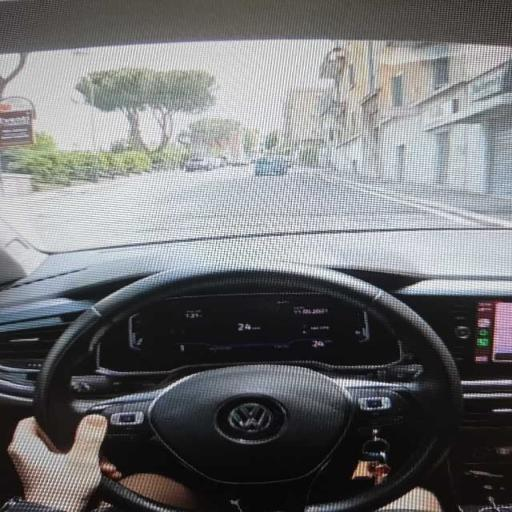car: (0, 0, 511, 511), (252, 156, 289, 175), (184, 157, 227, 172)
lane: (0, 167, 475, 250)
person: (2, 415, 120, 511)
